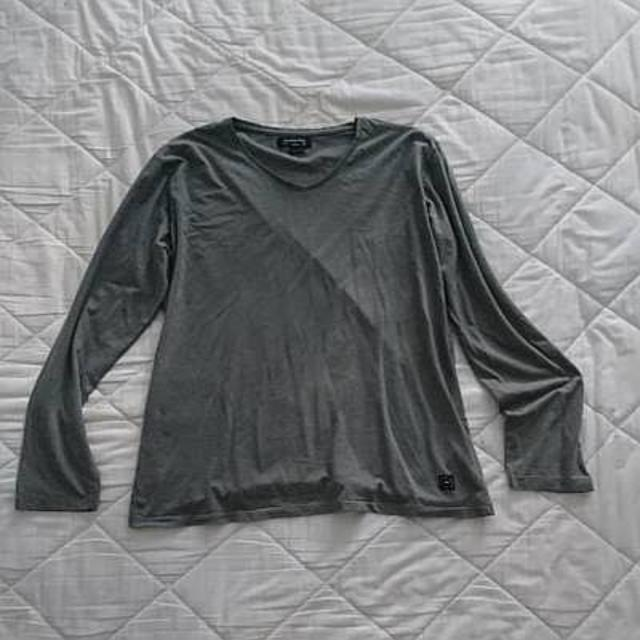SHIRT: (2, 103, 624, 544)
